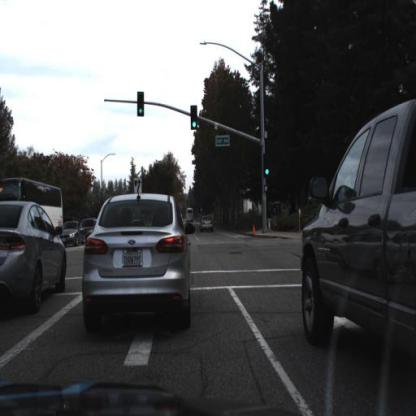car: (299, 99, 416, 363), (80, 190, 192, 326), (1, 197, 68, 324), (60, 221, 87, 248), (199, 213, 215, 234), (84, 219, 97, 239), (202, 214, 215, 233)
pedestrian: (273, 198, 282, 235)
trafficLight: (137, 90, 147, 121)
trafficLight-Green: (190, 105, 200, 134), (263, 153, 273, 181)
truck: (1, 179, 64, 244)
